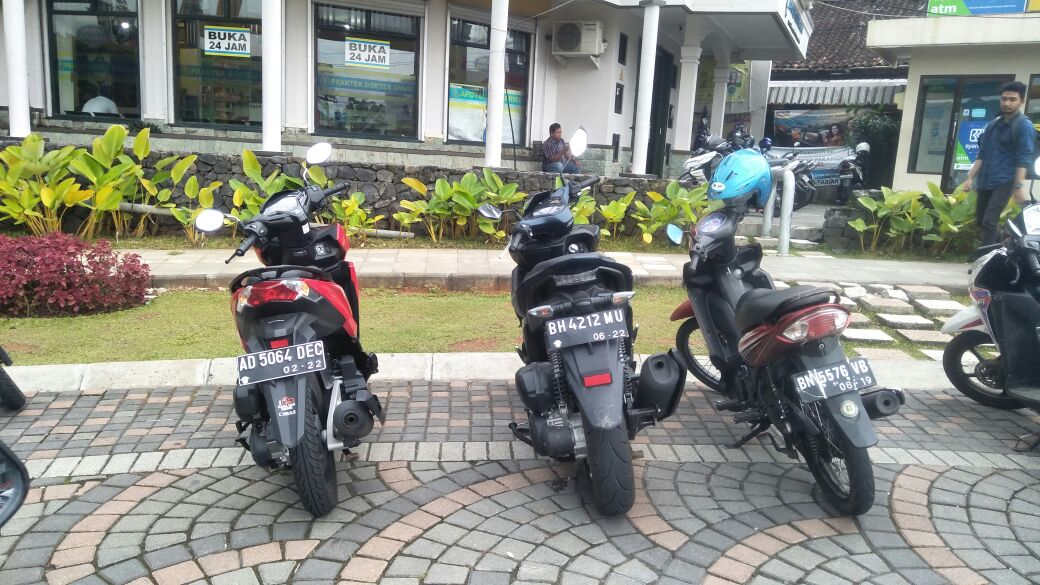plate: (792, 357, 877, 403), (237, 341, 326, 382), (548, 307, 627, 350)
